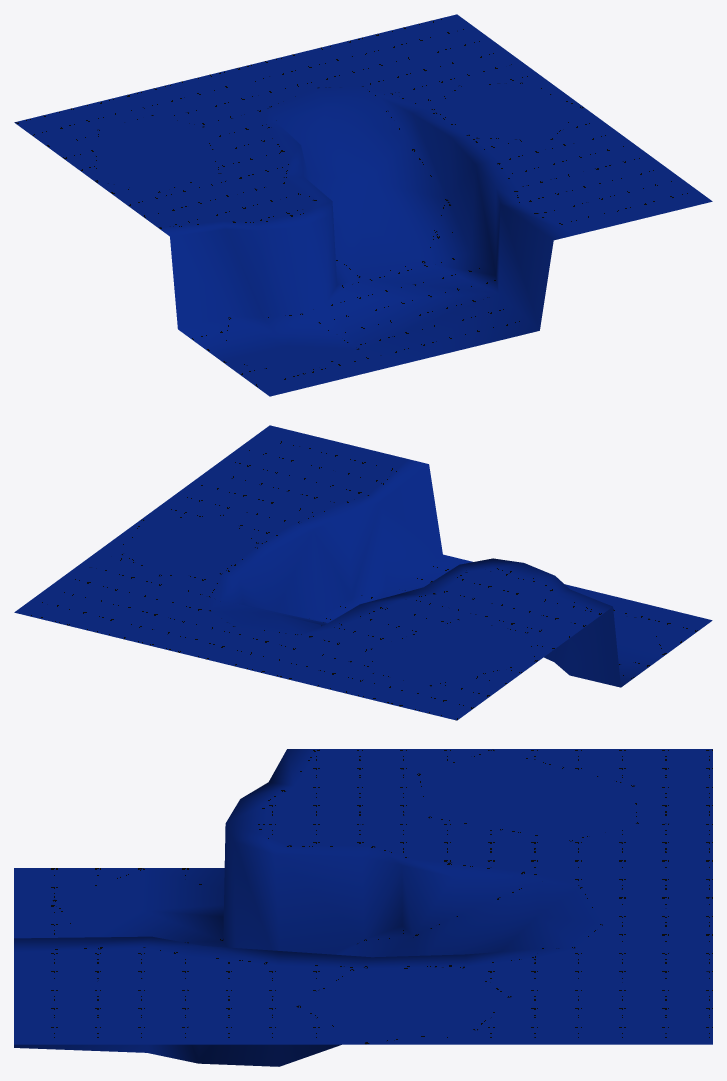
Rendered from GRD_S_C5_S_2.fbx.
3 renders of one model, top to bottom at view 1: azimuth 30°, elevation 25°; view 2: azimuth 150°, elevation 25°; view 3: azimuth 270°, elevation 25°, orthographic. The views are drawn at different scales.
Visible parts, largest first — view 1: material_00022000, material_C0032000, material_00012000; view 2: material_00022000, material_00012000, material_C0032000; view 3: material_00022000, material_C0032000, material_00012000.
Part boxes in pixels (x1,y1,x2,y2): material_00022000: (14,14,712,396); material_C0032000: (94,82,584,374); material_00012000: (158,93,573,330); material_00022000: (14,425,712,720); material_00012000: (209,459,620,687); material_C0032000: (121,514,664,686); material_00022000: (14,749,712,1044); material_C0032000: (52,749,638,1044); material_00012000: (14,749,539,1066).
Size of the model in its own units: 12800 by 2407 by 12800.
